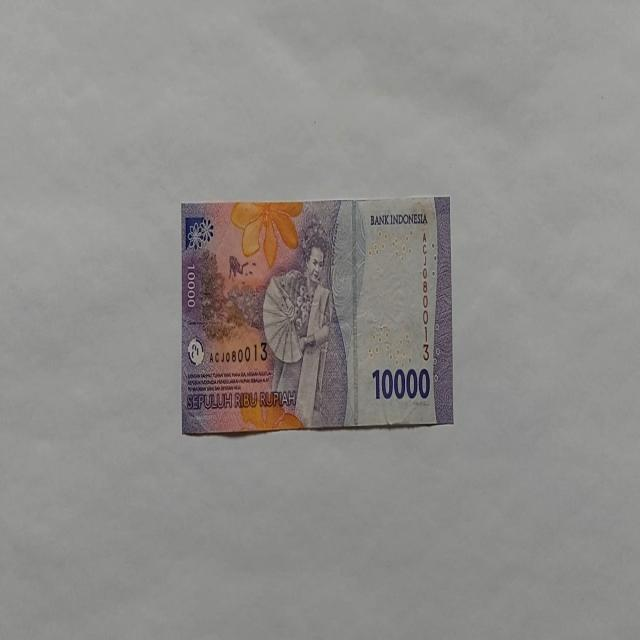sepuluh ribu rupiah: (180, 196, 454, 436), (262, 230, 346, 428)
